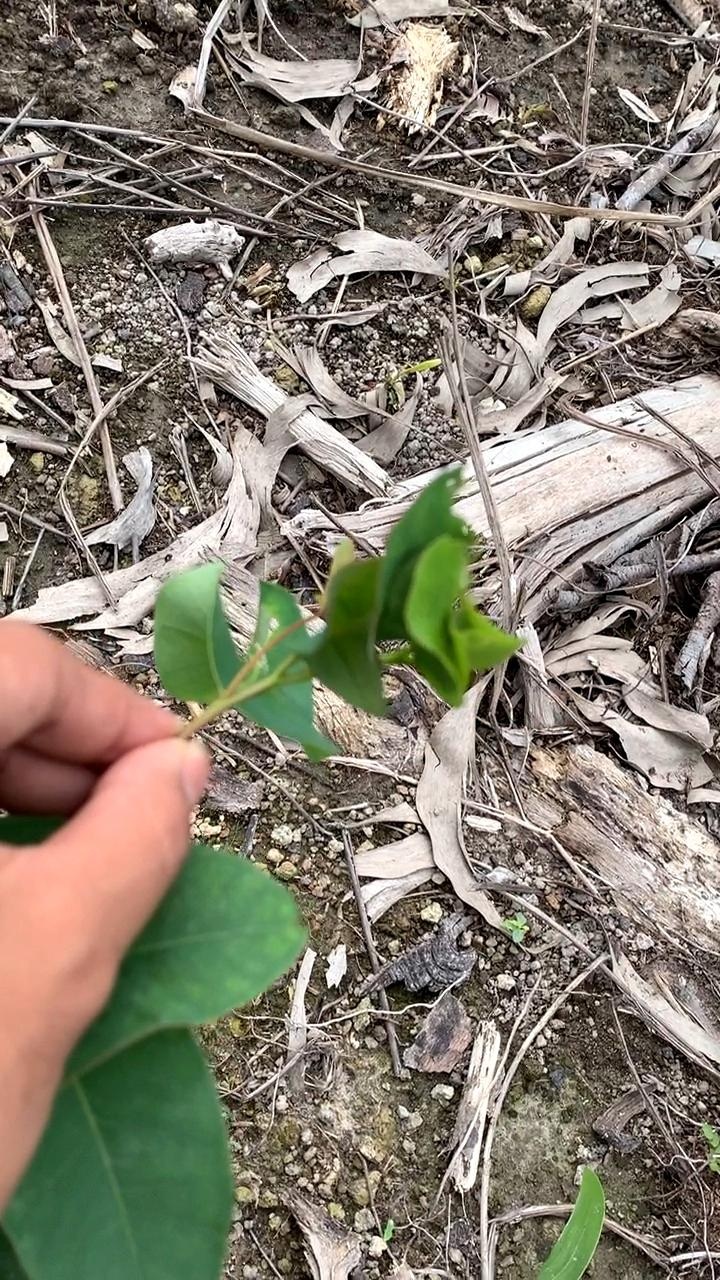Leaf Roller - Leaf: (319, 460, 533, 754)
